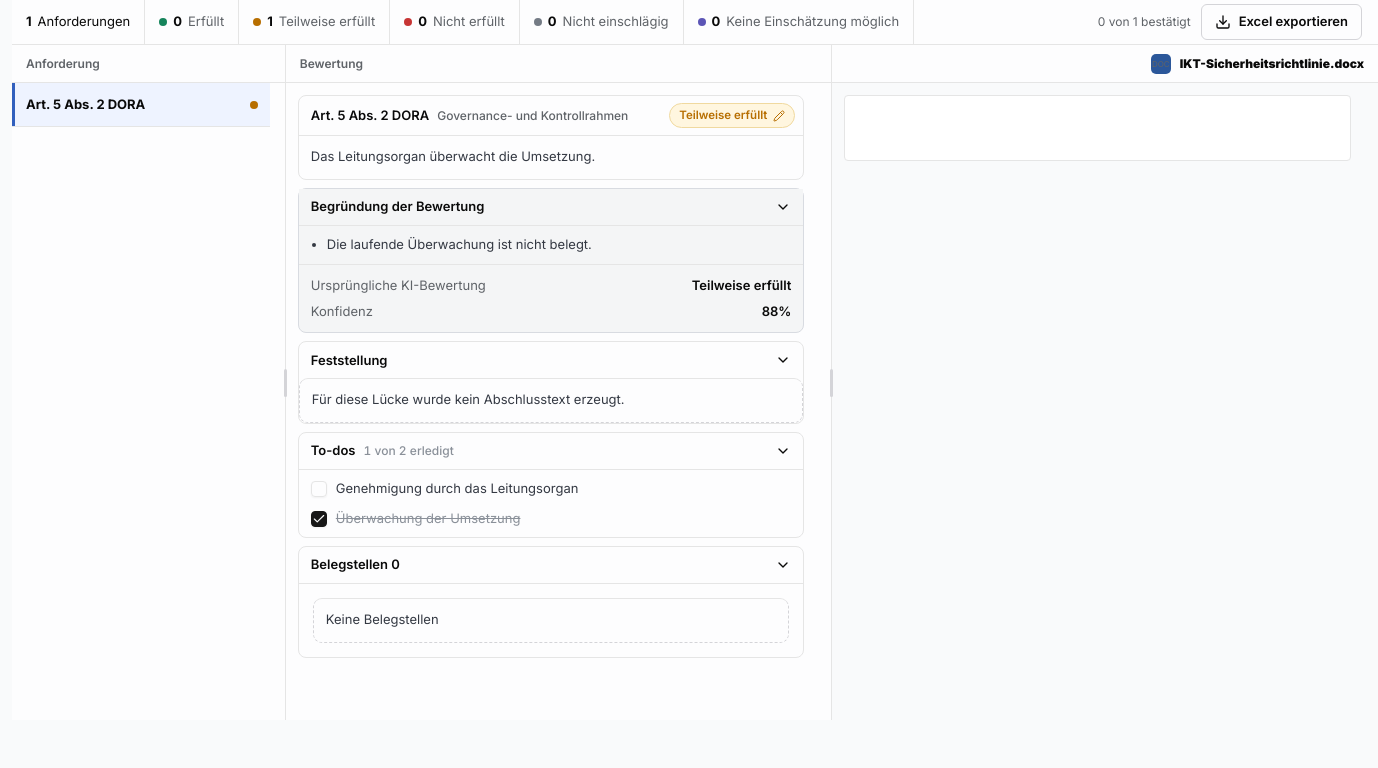
Test case: analysis result to-dos › persists a checked to-do and updates the done count
Expected: the text "1 von 2 erledigt" is shown, [364,443,454,458]
Expected: the checkbox named "Überwachung der Umsetzung" next to "Überwachung der Umsetzung" is checked, [311,511,327,527]
Click the checkbox named "Genehmigung durch das Leitungsorgan" next to "Genehmigung durch das Leitungsorgan" at (319, 489), box [311,481,327,497]
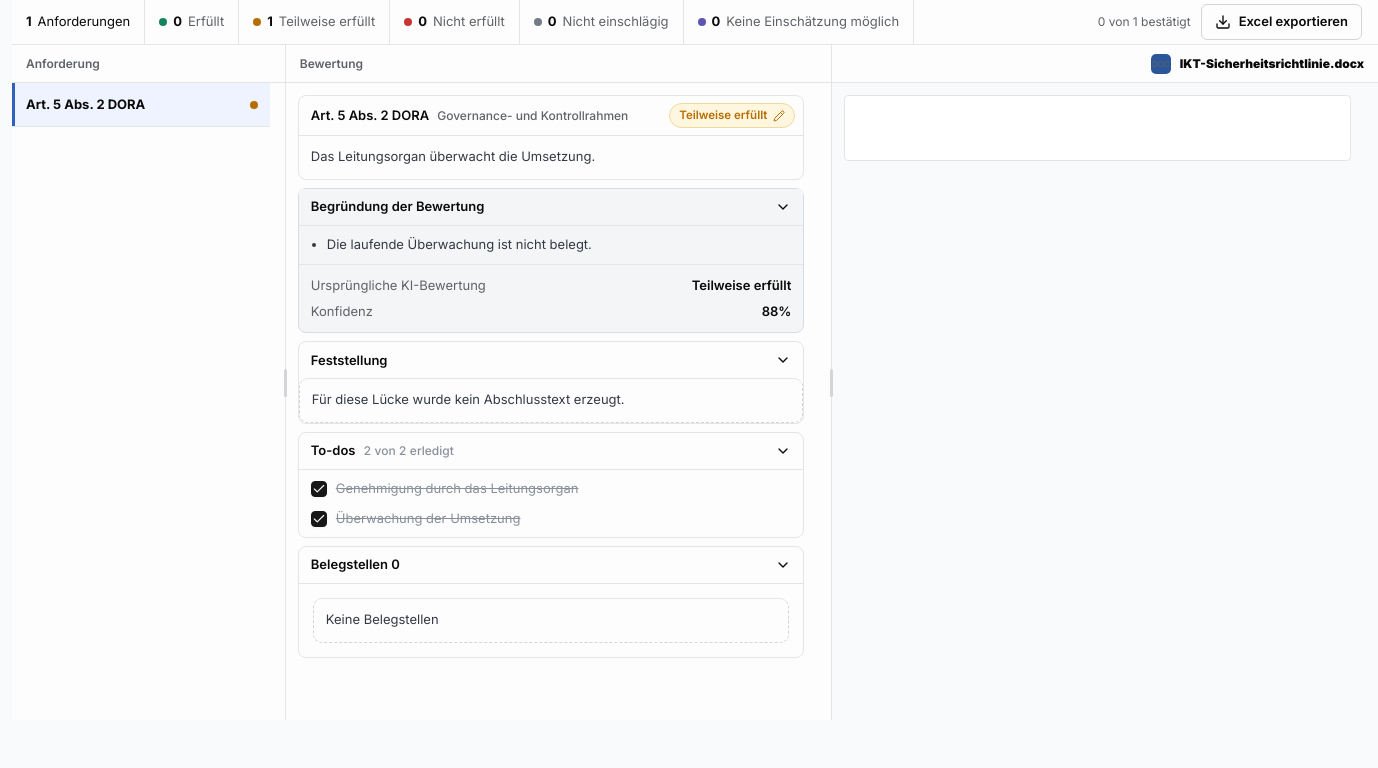
Expected: the text "2 von 2 erledigt" is shown, [364,443,454,458]
